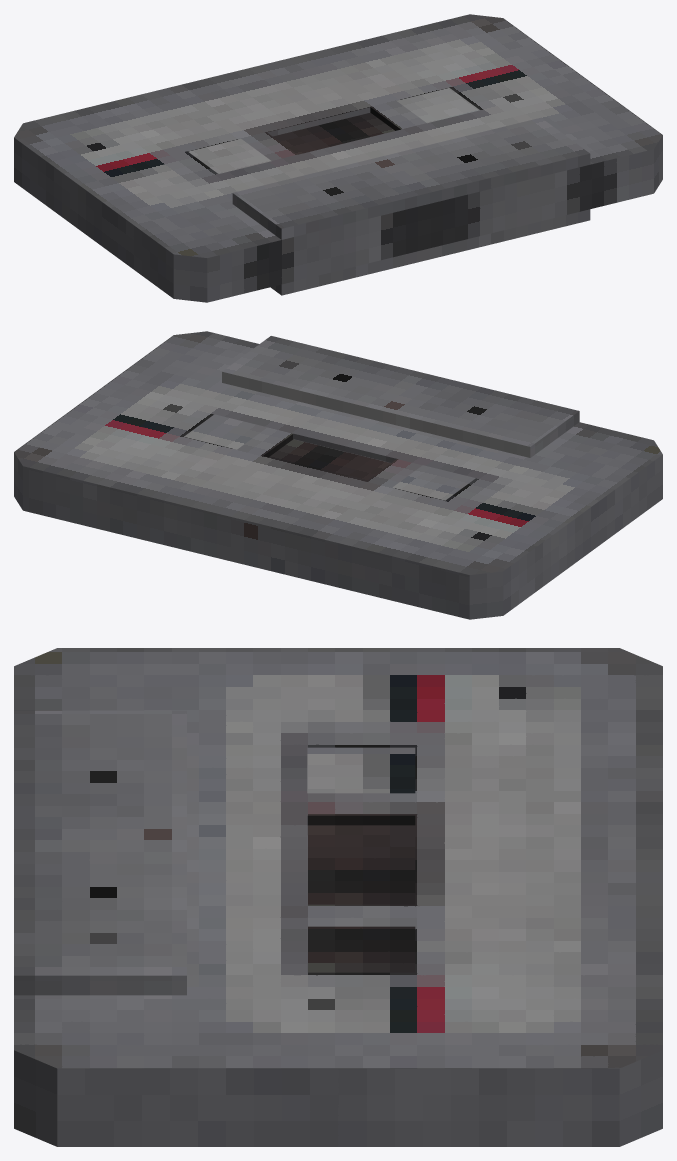
The model's file is cassette_tape_mp_1.dae.
3 views of the same model, one above another, from view 1: azimuth 30°, elevation 25°; view 2: azimuth 150°, elevation 25°; view 3: azimuth 270°, elevation 25° (orthographic). The views are drawn at different scales.
Parts seen in each view (by area): view 1: cassette_tape_mp_1; view 2: cassette_tape_mp_1; view 3: cassette_tape_mp_1.
Part boxes in pixels (<box>): cassette_tape_mp_1: <box>14,14,662,302</box>; cassette_tape_mp_1: <box>14,331,662,619</box>; cassette_tape_mp_1: <box>14,648,662,1146</box>.
Bounding box in the file's own units: 0.1656 × 0.108 × 0.0216.
1 material, 1 textured.
